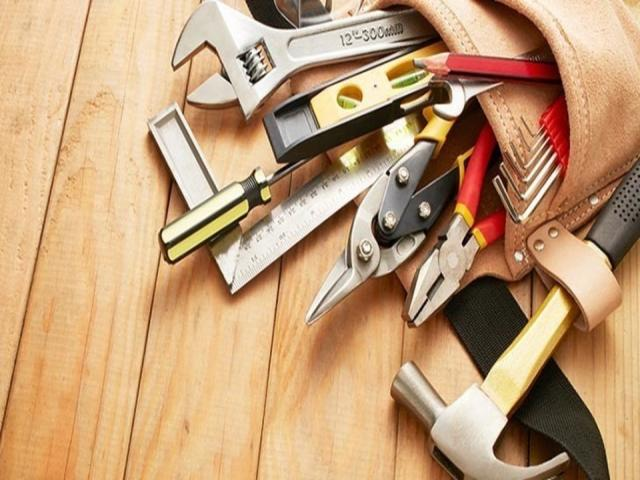Adjustable spanner: (172, 0, 435, 119)
Hammer: (392, 159, 640, 478)
Pliers: (404, 123, 505, 327)
Screwdriver: (159, 162, 305, 263)
Wrench: (429, 74, 504, 120)
